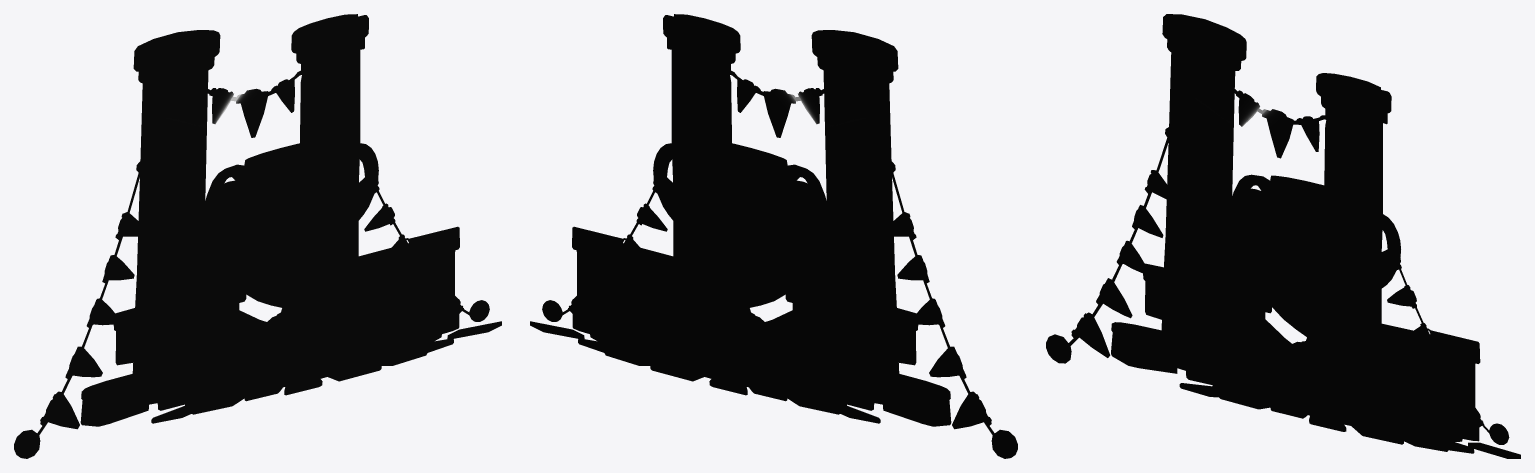
The model's file is left.fbx.
The picture shows the model from 3 angles, left to right: view 1: azimuth 30°, elevation 25°; view 2: azimuth 150°, elevation 25°; view 3: azimuth 330°, elevation 25°; orthographic projection. The views are drawn at different scales.
Visible parts, largest first — view 1: left; view 2: left; view 3: left.
Boxes of the visible parts, x1=… form: left: x1=14, y1=14, x2=501, y2=458; left: x1=530, y1=14, x2=1017, y2=458; left: x1=1046, y1=14, x2=1520, y2=458.
Size of the model in its own units: 11.97 by 9.15 by 0.
